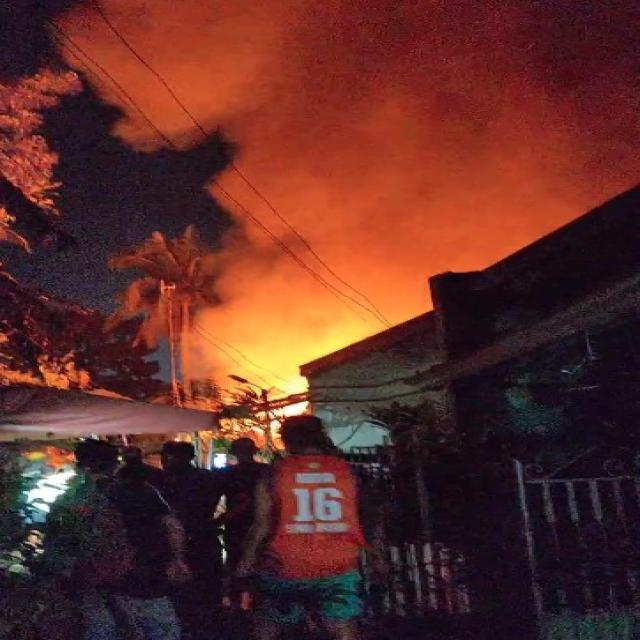Fire: (168, 276, 334, 428)
Smoke: (250, 12, 640, 188), (113, 12, 294, 132), (266, 183, 490, 260), (198, 250, 352, 354)
